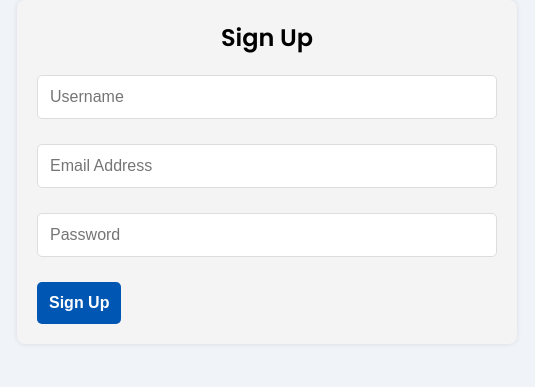
Test: SignupForm › displays error message on failed signup
This screenshot has width=535, height=387.
Type "testuser" into the field with placeholder "Username". click: {"x": 267, "y": 97}
box: [37, 75, 497, 119]
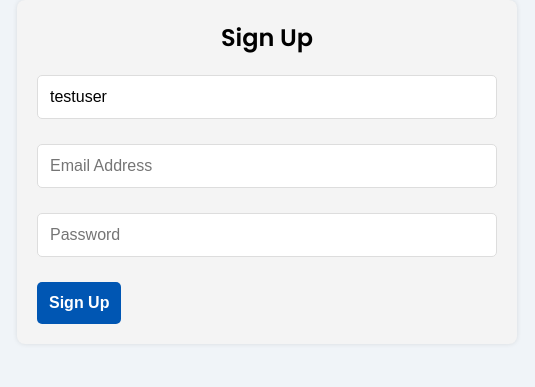
Type "test@example.com" into the field with placeholder "Email Address". click: {"x": 267, "y": 166}
box: [37, 144, 497, 188]
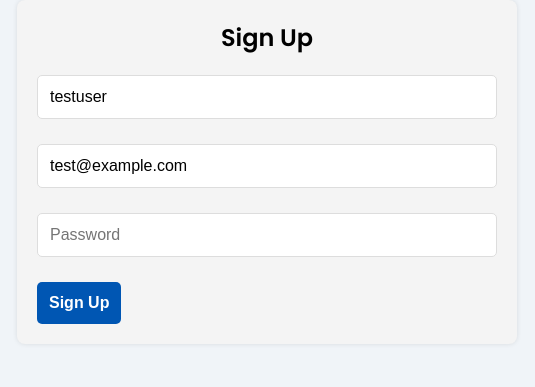
Type "password123" into the password field with placeholder "Password". click: {"x": 267, "y": 235}
box: [37, 213, 497, 257]
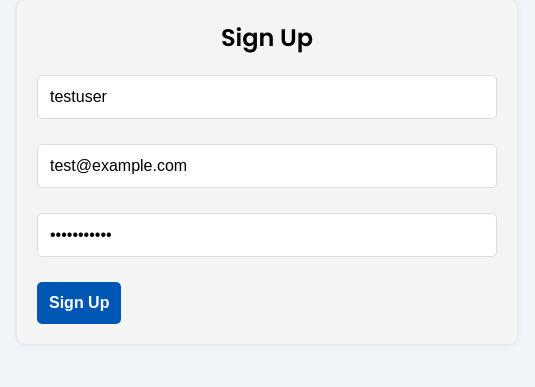
Click the button "Sign Up". click: {"x": 79, "y": 303}
box: [37, 282, 121, 324]
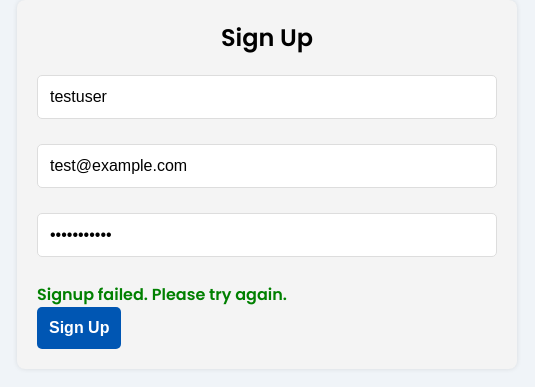
Expected: the text "Signup failed. Please try again." is shown, [37, 283, 287, 306]
